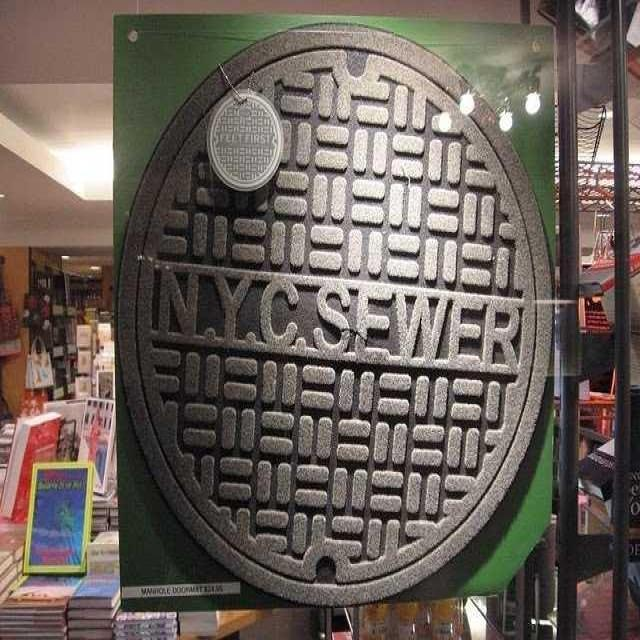manhole: (119, 27, 550, 604)
